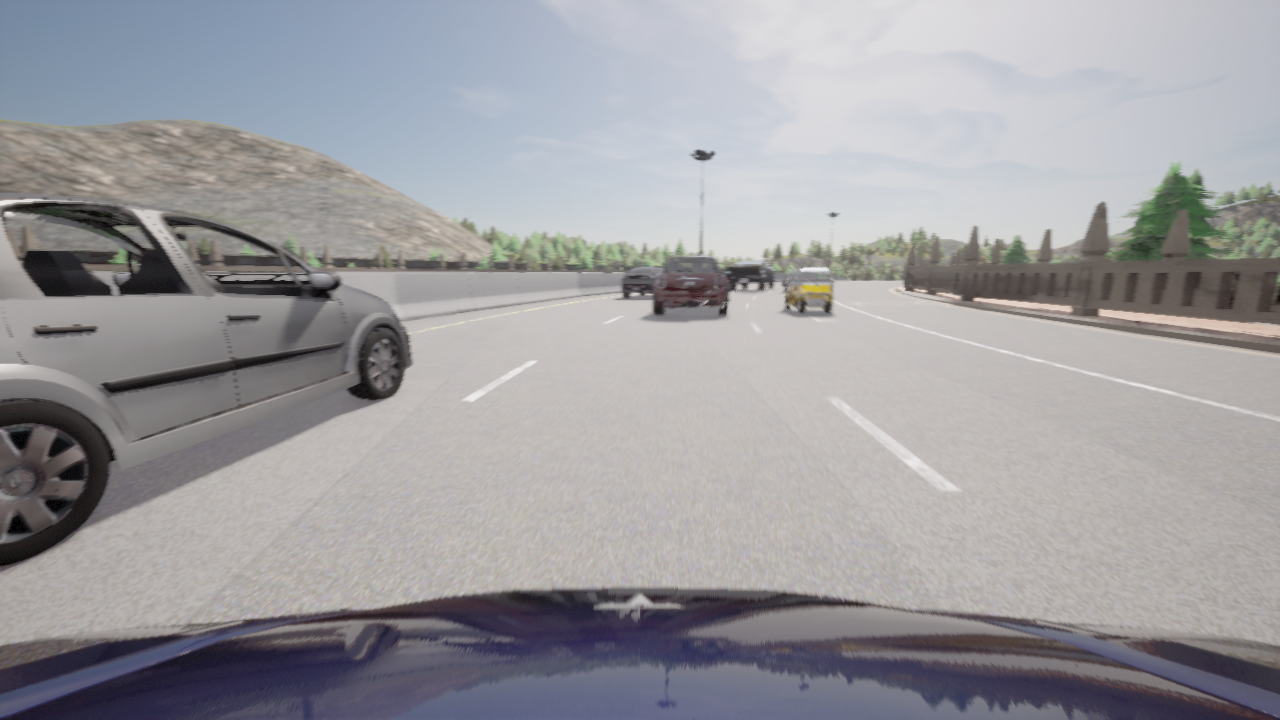cyclist: (0, 588, 1279, 719), (653, 253, 731, 316), (785, 267, 833, 314), (728, 260, 775, 290), (622, 266, 663, 297), (782, 272, 795, 292)
pedestrian: (979, 256, 989, 265)
